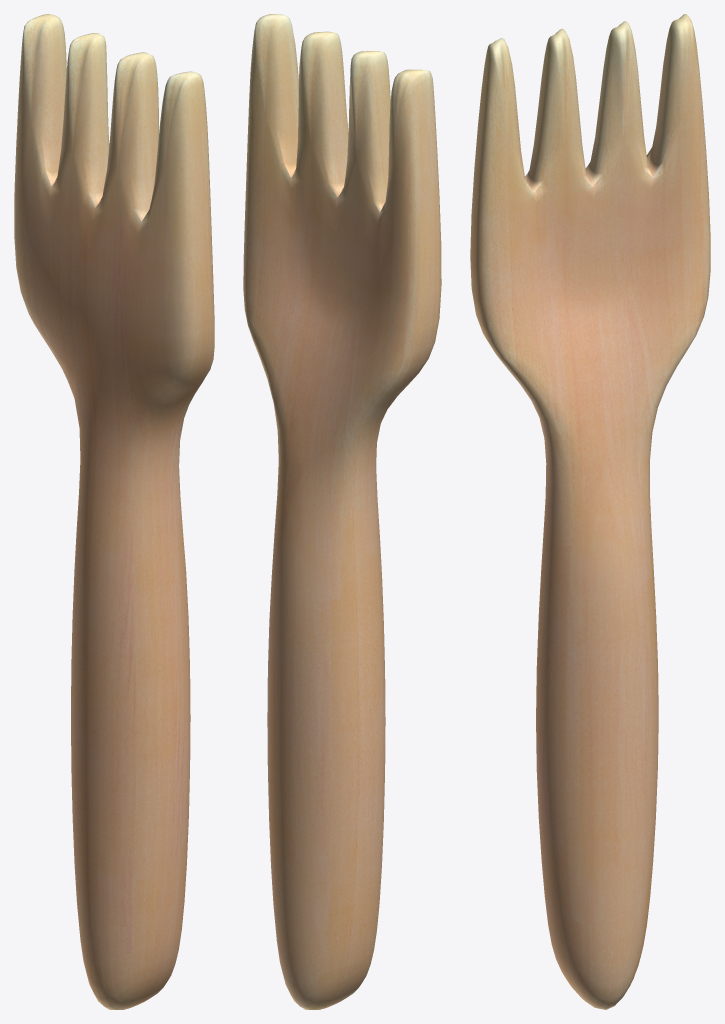
File: Fork_Wood.fbx
3 renders of one model, left to right at view 1: azimuth 30°, elevation 25°; view 2: azimuth 210°, elevation 25°; view 3: azimuth 270°, elevation 25°, orthographic.
Parts seen in each view (by area): view 1: Fork; view 2: Fork; view 3: Fork.
Part boxes in pixels (x1,y1,x2,y2): Fork: (14, 14, 214, 1009); Fork: (243, 14, 441, 1009); Fork: (470, 14, 710, 1009).
Size of the model in its own units: 1.47 by 11.62 by 2.63.
Materials: 1 (1 with a texture image).
